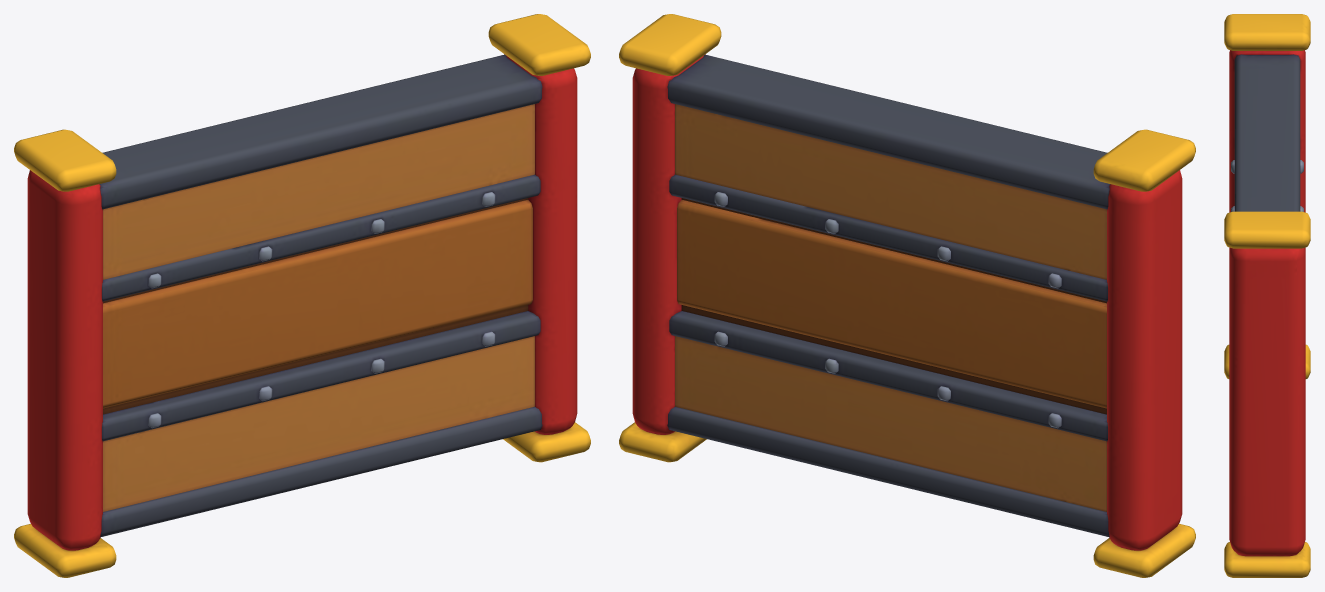
File: duvar.glb
3 views of the same model, side by side, from view 1: azimuth 30°, elevation 25°; view 2: azimuth 150°, elevation 25°; view 3: azimuth 270°, elevation 25° (orthographic). The views are drawn at different scales.
Visible parts, largest first — view 1: duvar; view 2: duvar; view 3: duvar.
Part boxes in pixels (box(x1,y1,x2,y2)): duvar: box(14, 14, 590, 577); duvar: box(619, 14, 1195, 577); duvar: box(1224, 14, 1310, 577).
Size of the model in its own units: 3.04 by 2.22 by 0.5.
Materials: 1 (1 with a texture image).
